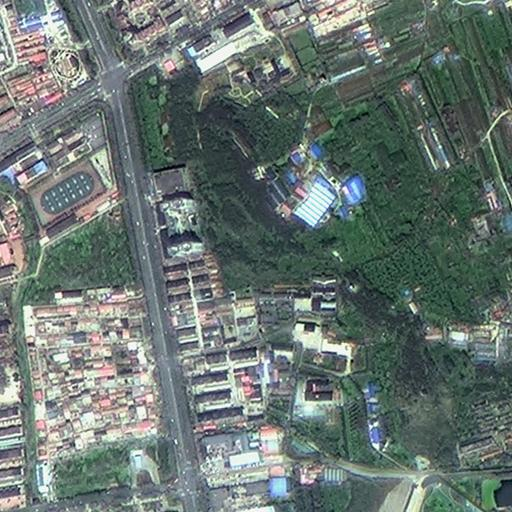school: (14, 105, 119, 238)
